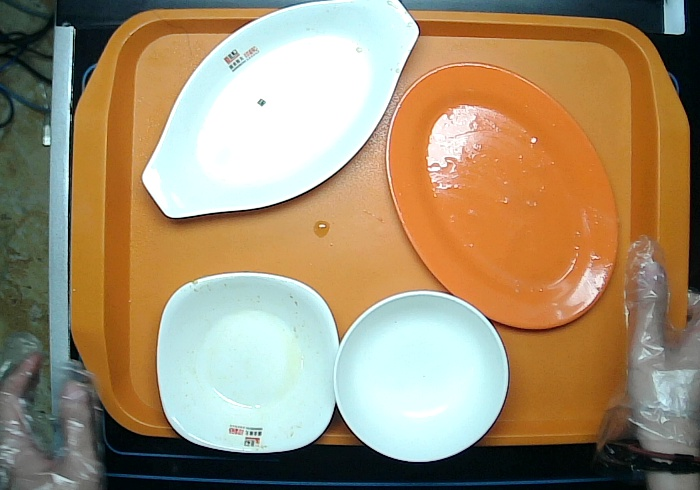NLDX-Bai_Se_Xiao_Fang_Die: (157, 271, 340, 453)
NLDX-Fan_Wan: (333, 290, 510, 463)
NLDX-Ju_Se_Pan: (386, 61, 619, 330)
NLDX-Yu_Pan: (141, 1, 421, 219)
